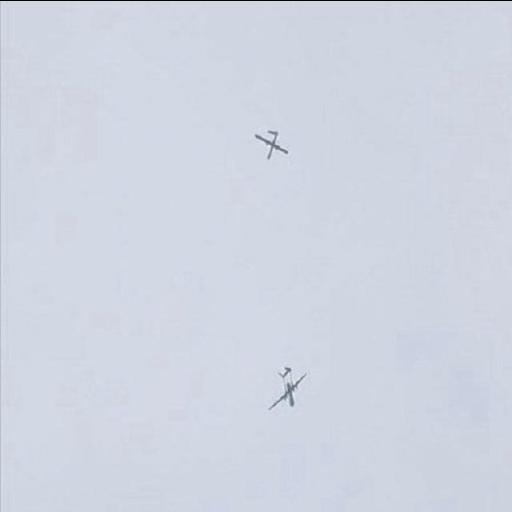uav: (240, 108, 296, 177)
